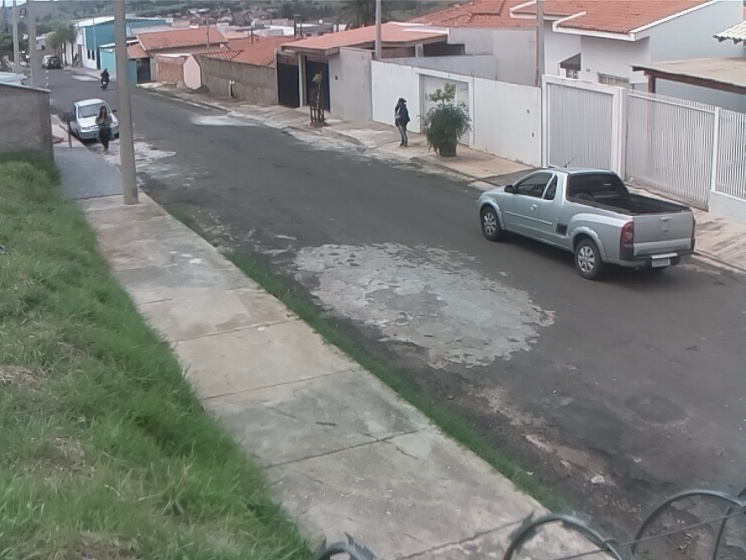person: (95, 105, 117, 156), (392, 96, 411, 150)
